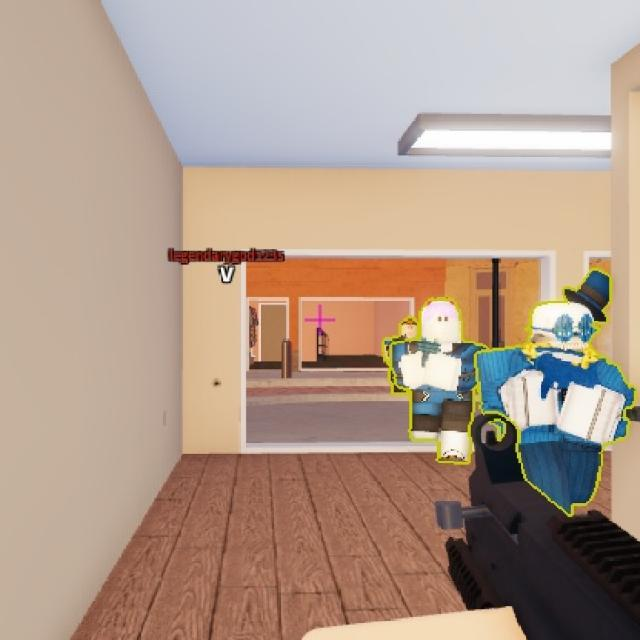player: (487, 272, 640, 415), (422, 296, 469, 459), (392, 309, 418, 340)
